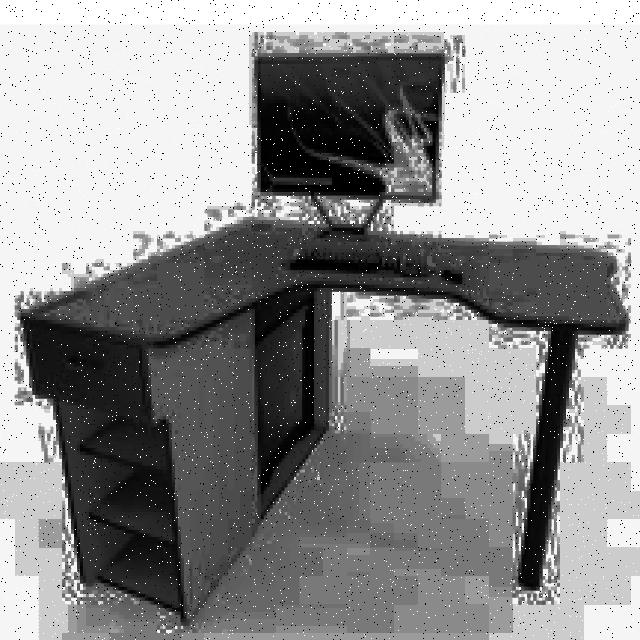table: (18, 217, 625, 622)
